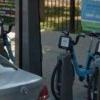Bicycle: (40, 25, 97, 100)
